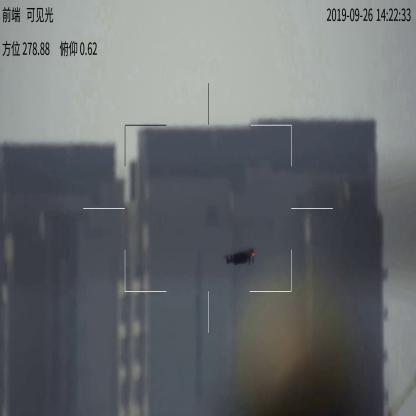uav: (218, 245, 261, 270)
